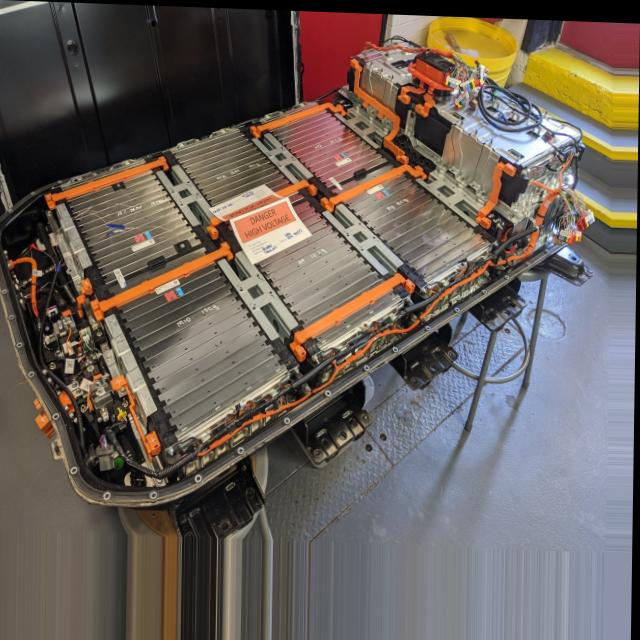Aluminum-frame: (221, 244, 299, 339), (325, 199, 406, 271), (106, 313, 158, 416), (442, 123, 500, 188), (159, 162, 217, 224), (420, 165, 484, 218), (255, 129, 313, 181), (57, 203, 93, 266), (336, 107, 385, 146), (405, 113, 442, 159)
Battery Module: (123, 260, 283, 439), (247, 200, 381, 324), (68, 171, 204, 284), (349, 173, 484, 272), (176, 124, 290, 203), (273, 109, 386, 184)
Bolt: (106, 351, 113, 360), (66, 254, 73, 263), (98, 385, 106, 392), (76, 386, 83, 393), (95, 378, 103, 384), (57, 317, 63, 325), (66, 314, 72, 322), (74, 379, 79, 388), (121, 386, 127, 393), (77, 279, 82, 287), (48, 208, 53, 216), (58, 235, 64, 241)
Bus-bar: (291, 269, 416, 359), (92, 242, 233, 319), (208, 177, 318, 236), (51, 154, 168, 207), (351, 54, 408, 160), (321, 161, 428, 207), (111, 374, 162, 460), (251, 100, 347, 134), (477, 157, 517, 224), (399, 80, 435, 113), (78, 277, 94, 317)
Cable: (204, 178, 562, 454), (377, 34, 482, 109), (475, 78, 548, 135)
Nut: (81, 401, 89, 415), (122, 396, 130, 407), (168, 447, 176, 458), (96, 324, 103, 336), (474, 124, 481, 134), (459, 116, 468, 123), (460, 171, 467, 180), (50, 362, 56, 372), (489, 134, 496, 142), (511, 208, 516, 219), (442, 159, 448, 166), (38, 320, 43, 328), (481, 188, 486, 196), (358, 97, 363, 104), (371, 108, 376, 114)
Screw: (98, 414, 104, 423), (410, 105, 416, 114)
